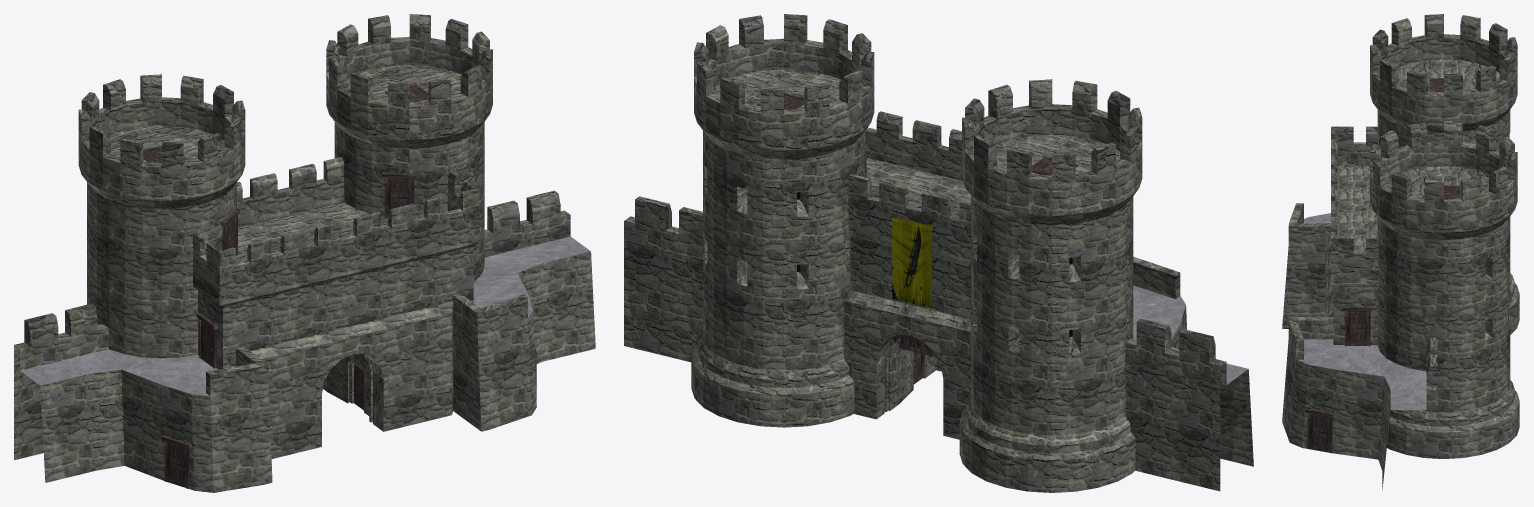
File: gatehouse-mobile.glb
3 renders of one model, left to right at view 1: azimuth 30°, elevation 25°; view 2: azimuth 150°, elevation 25°; view 3: azimuth 270°, elevation 25°, orthographic. The views are drawn at different scales.
Parts seen in each view (by area): view 1: GateRight; view 2: GateRight; view 3: GateRight.
Part boxes in pixels (x1,y1,x2,y2): GateRight: (14, 14, 595, 492); GateRight: (624, 14, 1253, 492); GateRight: (1282, 14, 1519, 490).
Bounding box in the file's own units: 29.08 × 15.7 × 12.26.
Materials: 8 (8 with a texture image).
